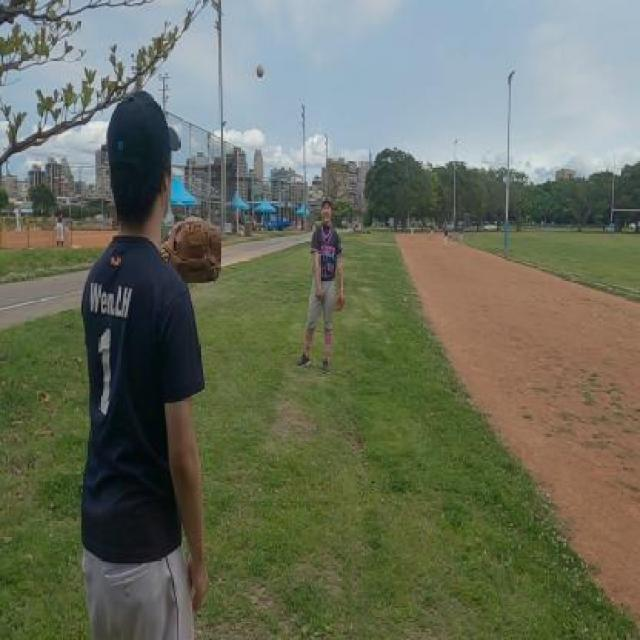baseball: (256, 63, 264, 79)
